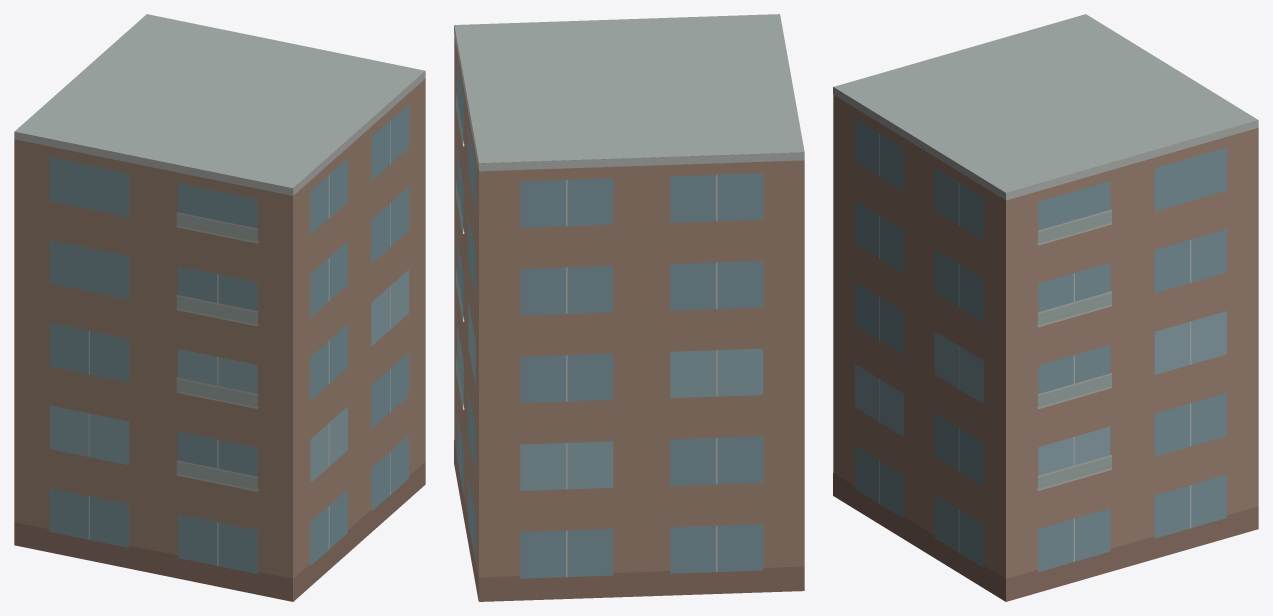
Rendered from survey-upis-32693529.glb.
The picture shows the model from 3 angles, left to right: view 1: azimuth 30°, elevation 25°; view 2: azimuth 150°, elevation 25°; view 3: azimuth 270°, elevation 25°; orthographic projection. The views are drawn at different scales.
Parts seen in each view (by area): view 1: survey-upis-32693529.tmp; view 2: survey-upis-32693529.tmp; view 3: survey-upis-32693529.tmp.
Part boxes in pixels (x1,y1,x2,y2): survey-upis-32693529.tmp: [14, 14, 425, 601]; survey-upis-32693529.tmp: [454, 14, 804, 601]; survey-upis-32693529.tmp: [833, 14, 1258, 601].
Bounding box in the file's own units: 12.4 × 13.2 × 12.45.
